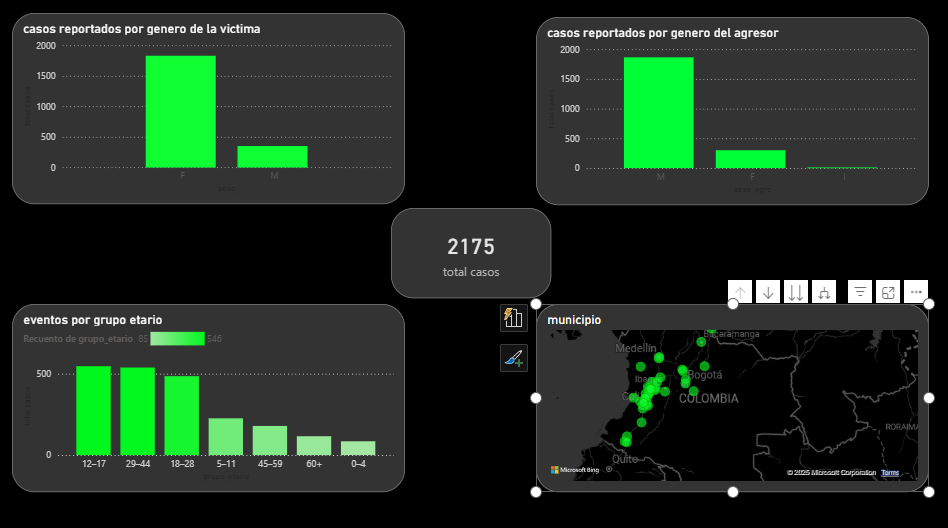

The page's visual inventory and layout, read from the dashboard file:
{"tool":"powerbi","page":{"name":"Página 1","canvas":[1280,720],"ordinal":0},"visuals":[{"type":"card","fields":{"Values":["Registro_Vigilancia_en_salud_publica_de_la_violencia_de_genero_e_intrafamiliar_2.total casos"]},"box":[533.7,286.8,212.6,119.9],"z":0},{"type":"clusteredColumnChart","title":"casos reportados por genero de la victima","fields":{"Y":["Registro_Vigilancia_en_salud_publica_de_la_violencia_de_genero_e_intrafamiliar_2.total casos"],"Category":["Registro_Vigilancia_en_salud_publica_de_la_violencia_de_genero_e_intrafamiliar_2.sexo_"]},"box":[30,28.5,522.3,254],"z":1000},{"type":"clusteredColumnChart","title":"eventos por grupo etario","fields":{"Category":["Registro_Vigilancia_en_salud_publica_de_la_violencia_de_genero_e_intrafamiliar_2.grupo_etario"],"Y":["Registro_Vigilancia_en_salud_publica_de_la_violencia_de_genero_e_intrafamiliar_2.total casos"]},"box":[30,413.8,522.3,249.7],"z":2000},{"type":"map","fields":{"Category":["Registro_Vigilancia_en_salud_publica_de_la_violencia_de_genero_e_intrafamiliar_2.nmun_resi","Registro_Vigilancia_en_salud_publica_de_la_violencia_de_genero_e_intrafamiliar_2.nacionali_"]},"box":[726.3,413.8,522.3,249.7],"z":3000},{"type":"clusteredColumnChart","title":"casos reportados por genero del agresor","fields":{"Category":["Registro_Vigilancia_en_salud_publica_de_la_violencia_de_genero_e_intrafamiliar_2.sexo_agre"],"Y":["Registro_Vigilancia_en_salud_publica_de_la_violencia_de_genero_e_intrafamiliar_2.total casos"]},"box":[726.3,32.8,522.3,249.7],"z":4000}]}

Visuals, with their boxes in screenshot pixels (x1, y1, x2, y2), scaled from the page's 1280x720 canvas onto the 948x528 screenshot:
card - Registro_Vigilancia_en_salud_publica_de_la_violencia_de_genero_e_intrafamiliar_2.total casos: <region>395, 210, 553, 298</region>
"casos reportados por genero de la victima" clusteredColumnChart: <region>22, 21, 409, 207</region>
"eventos por grupo etario" clusteredColumnChart: <region>22, 303, 409, 487</region>
map - Registro_Vigilancia_en_salud_publica_de_la_violencia_de_genero_e_intrafamiliar_2.nmun_resi x Registro_Vigilancia_en_salud_publica_de_la_violencia_de_genero_e_intrafamiliar_2.nacionali_: <region>538, 303, 925, 487</region>
"casos reportados por genero del agresor" clusteredColumnChart: <region>538, 24, 925, 207</region>
